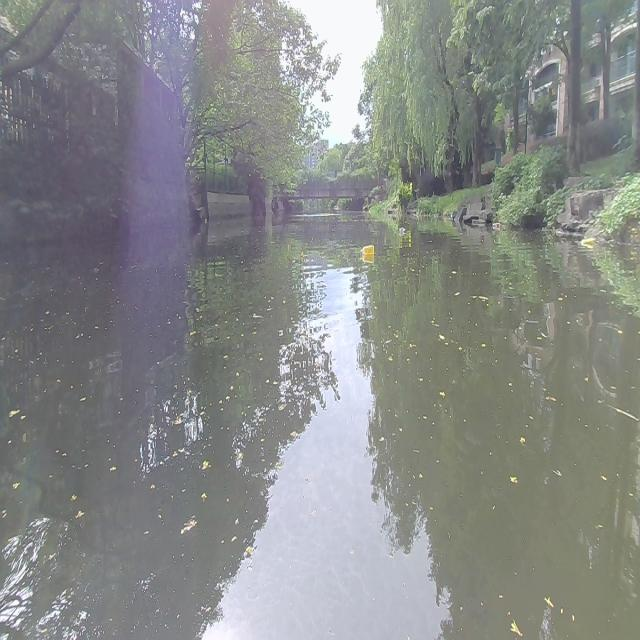bottle: (359, 242, 375, 254), (491, 222, 501, 228), (397, 226, 403, 231)
